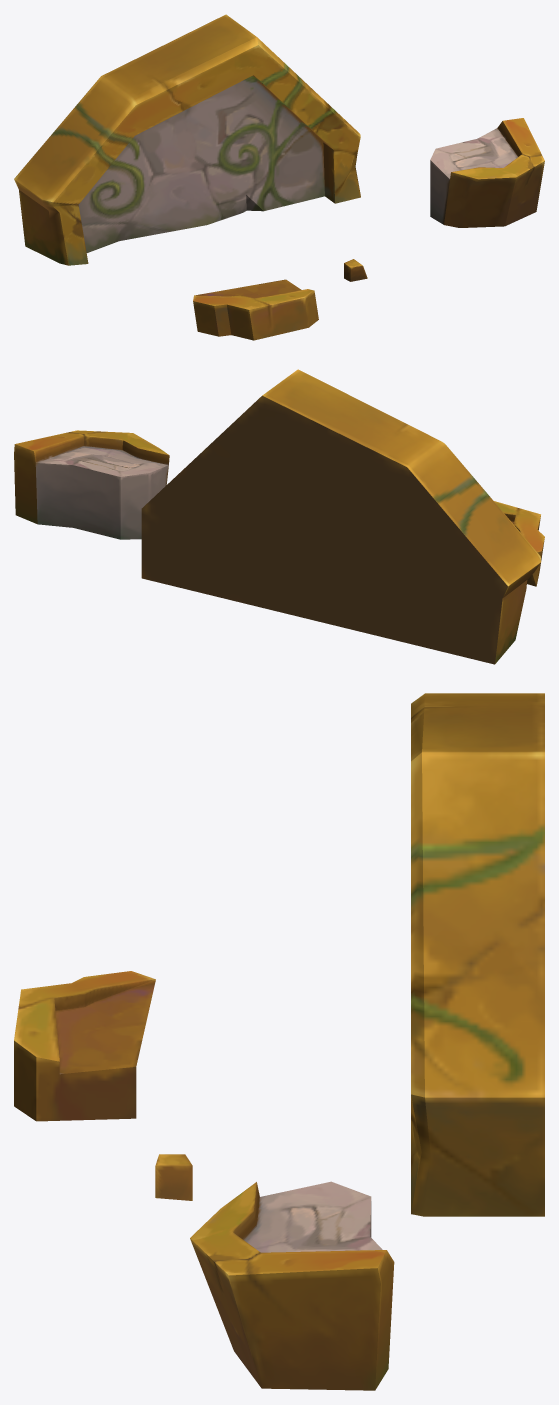
File: TYJ_CanShiM_01.fbx
The picture shows the model from 3 angles, top to bottom: view 1: azimuth 30°, elevation 25°; view 2: azimuth 150°, elevation 25°; view 3: azimuth 270°, elevation 25°; orthographic projection. The views are drawn at different scales.
Visible parts, largest first — view 1: TYJ_CanShiM_01_01, TYJ_CanShiM_01_03, TYJ_CanShiM_01_02, TYJ_CanShiM_01_04; view 2: TYJ_CanShiM_01_01, TYJ_CanShiM_01_03, TYJ_CanShiM_01_02; view 3: TYJ_CanShiM_01_01, TYJ_CanShiM_01_03, TYJ_CanShiM_01_02, TYJ_CanShiM_01_04.
Part boxes in pixels (x1=…): TYJ_CanShiM_01_01: x1=14, y1=14, x2=360, y2=265; TYJ_CanShiM_01_03: x1=430, y1=118, x2=544, y2=227; TYJ_CanShiM_01_02: x1=193, y1=279, x2=318, y2=340; TYJ_CanShiM_01_04: x1=344, y1=259, x2=367, y2=281; TYJ_CanShiM_01_01: x1=141, y1=369, x2=541, y2=664; TYJ_CanShiM_01_03: x1=14, y1=430, x2=169, y2=539; TYJ_CanShiM_01_02: x1=494, y1=501, x2=544, y2=586; TYJ_CanShiM_01_01: x1=411, y1=693, x2=544, y2=1216; TYJ_CanShiM_01_03: x1=190, y1=1181, x2=394, y2=1390; TYJ_CanShiM_01_02: x1=14, y1=971, x2=155, y2=1121; TYJ_CanShiM_01_04: x1=155, y1=1154, x2=192, y2=1200.
Bounding box in the file's own units: 1062 × 453 × 526.
